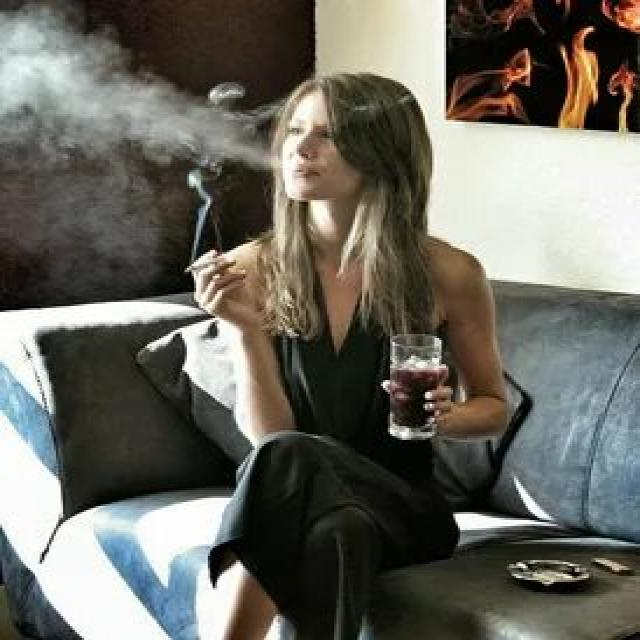cigarette: (182, 252, 231, 274)
